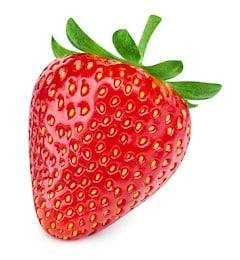Fresa: (22, 46, 196, 247)
